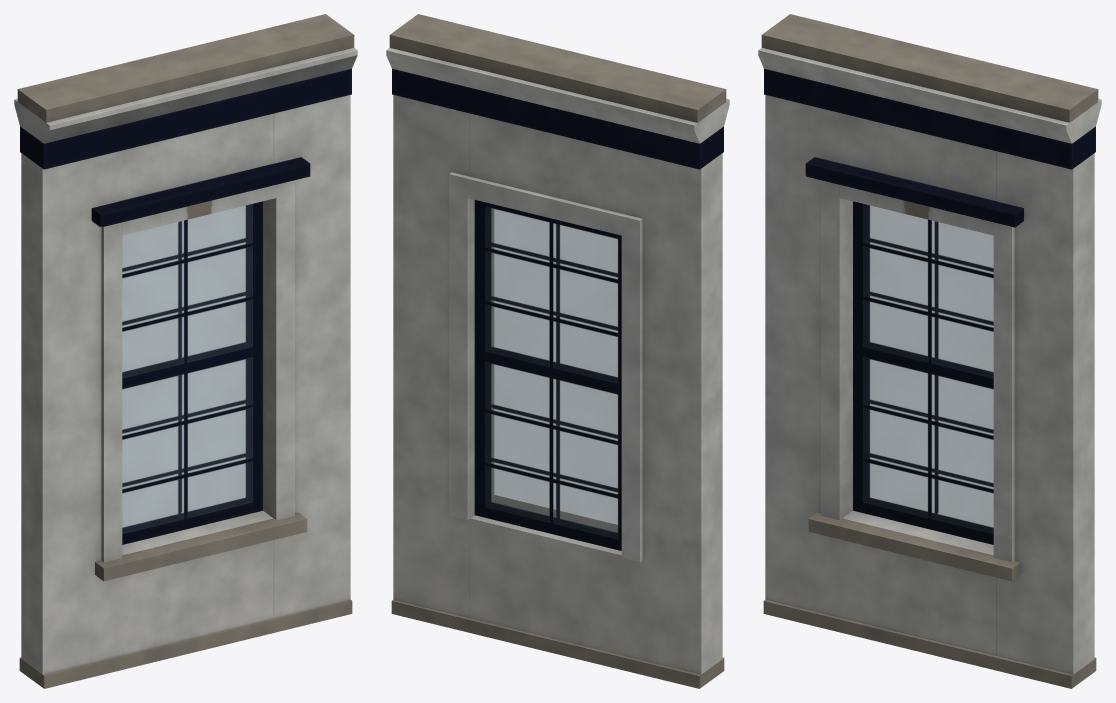
The model's file is charter_window_upper.glb.
3 renders of one model, left to right at view 1: azimuth 30°, elevation 25°; view 2: azimuth 150°, elevation 25°; view 3: azimuth 330°, elevation 25°, orthographic.
Parts seen in each view (by area): view 1: charter_window_upper; view 2: charter_window_upper; view 3: charter_window_upper.
Boxes of the visible parts, left/top/right/bottom form: charter_window_upper: left=14, top=14, right=357, bottom=688; charter_window_upper: left=386, top=14, right=729, bottom=688; charter_window_upper: left=758, top=14, right=1101, bottom=688.
Size of the model in its own units: 2 by 3.6 by 0.42.
1 material, 1 textured.
